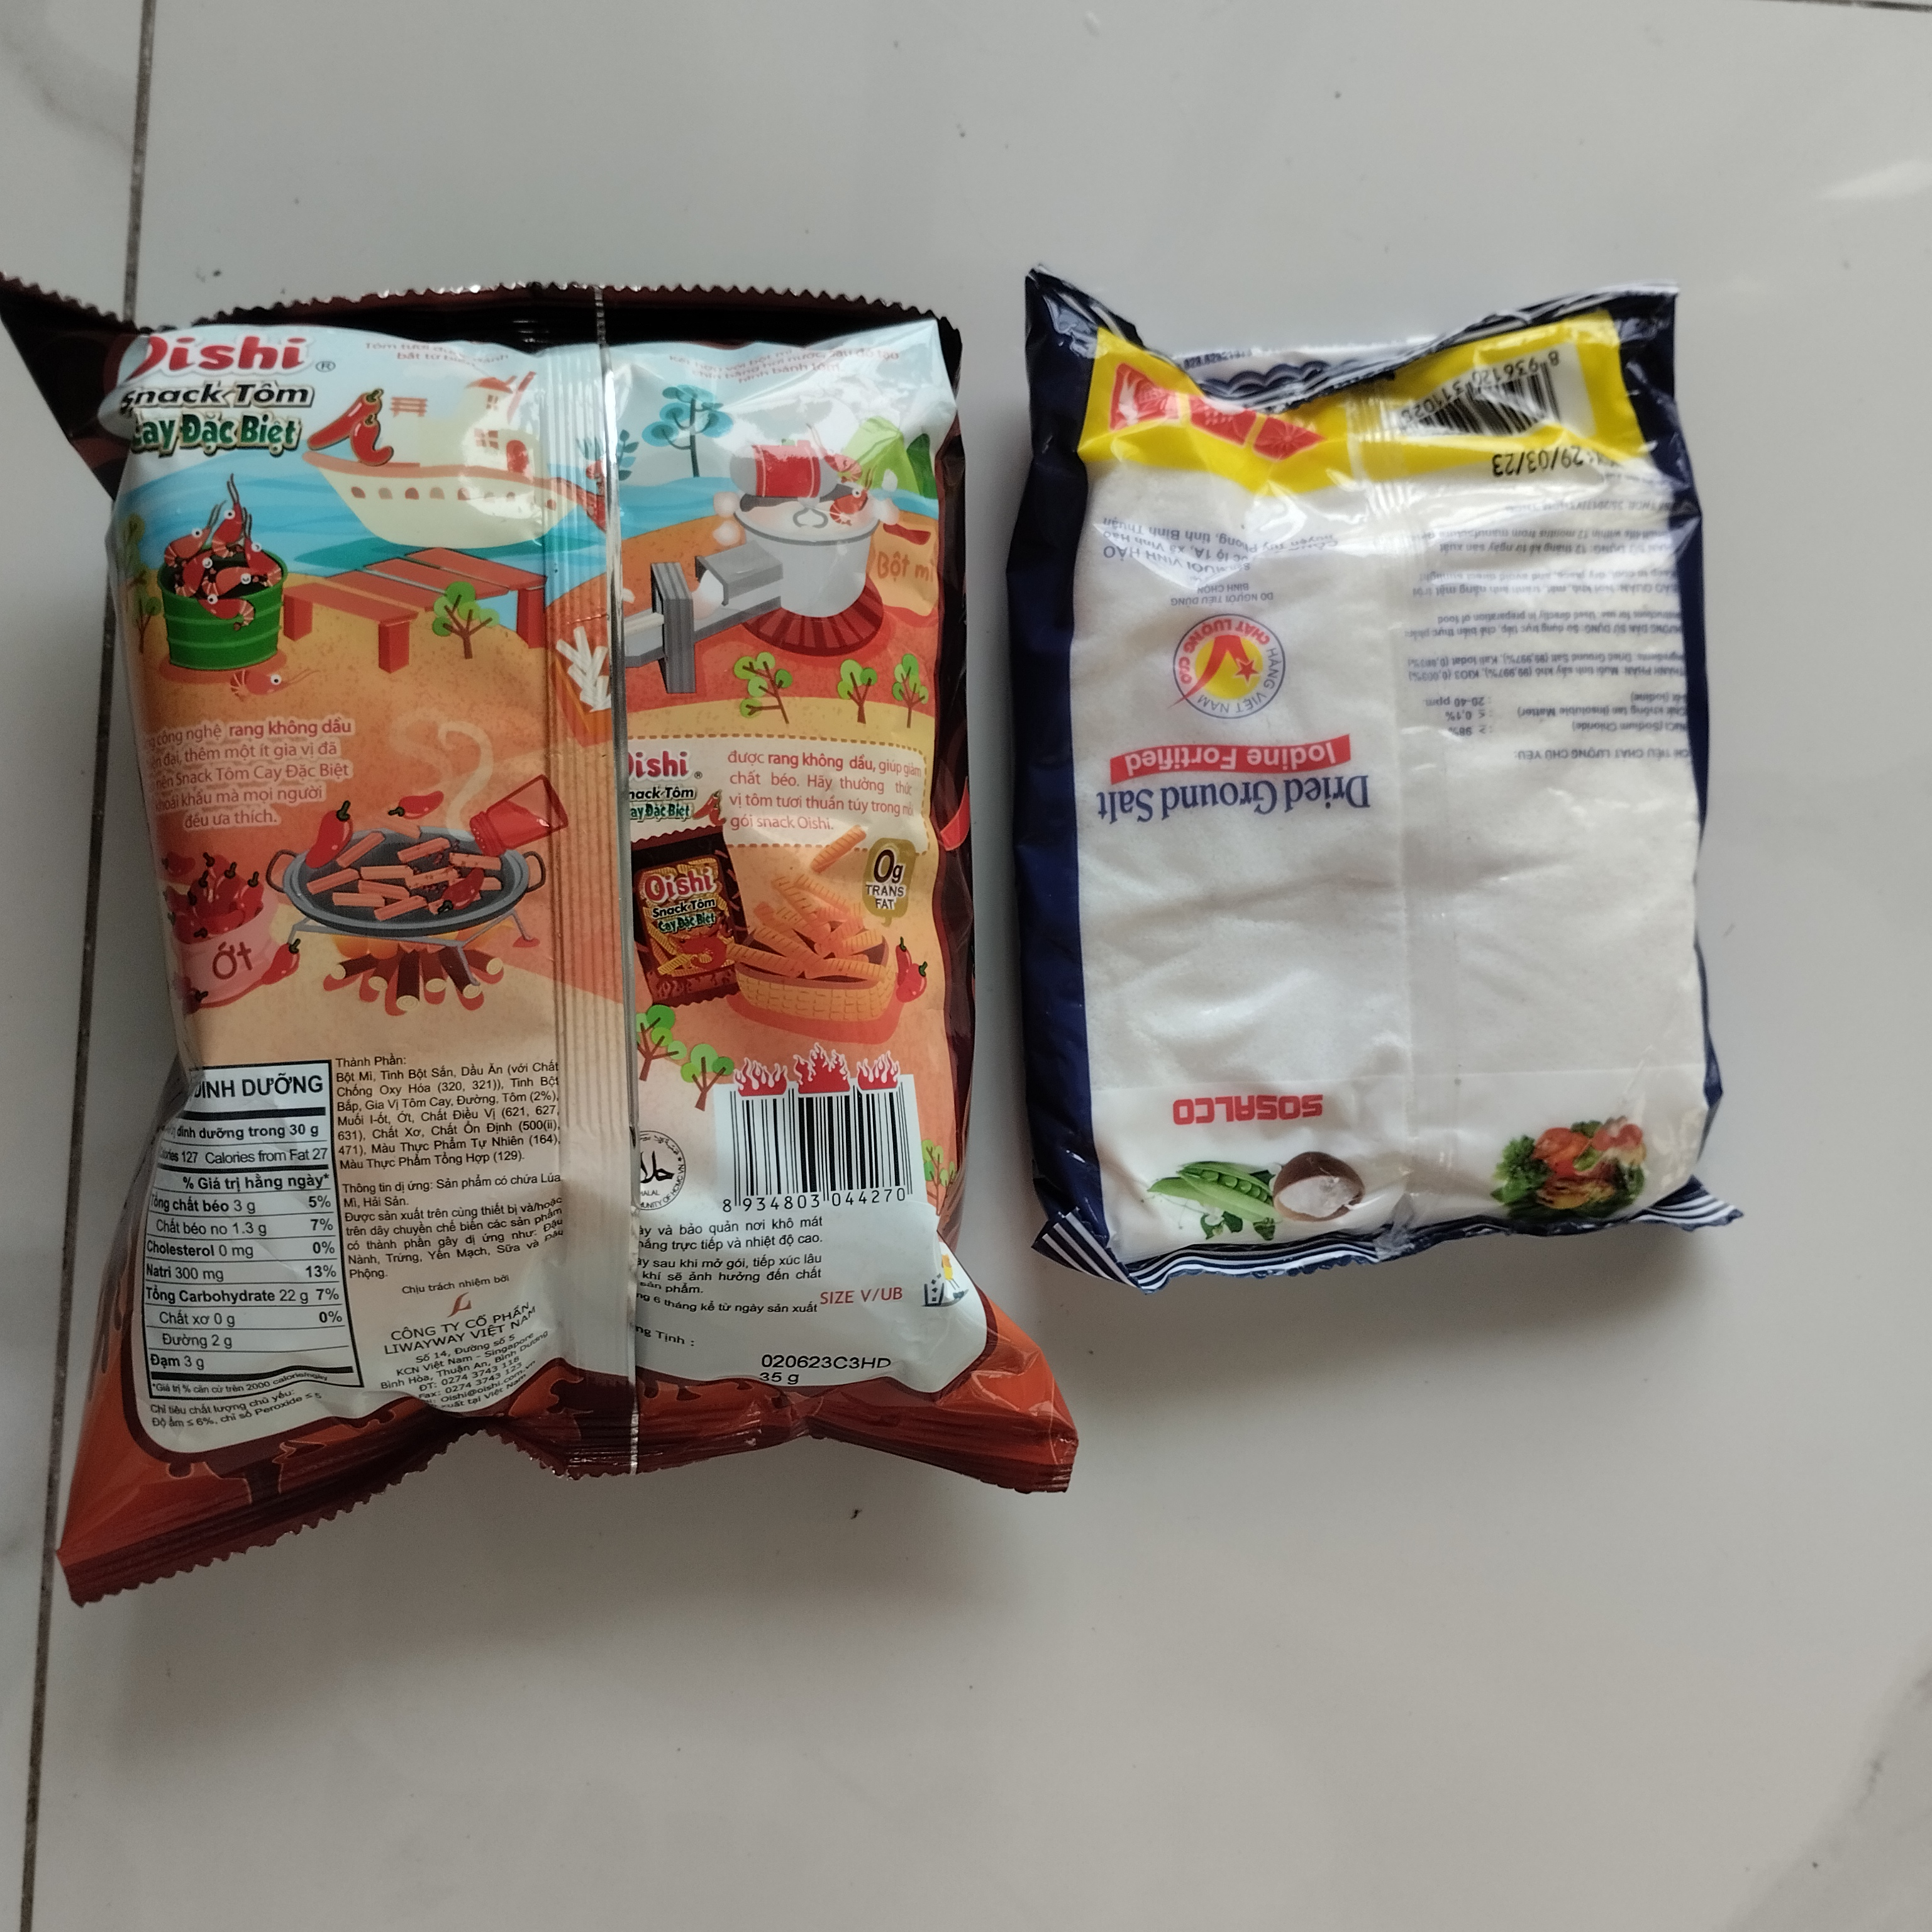Oishi_Cay: (0, 267, 1092, 1628)
Salt: (1023, 244, 1757, 1269)
